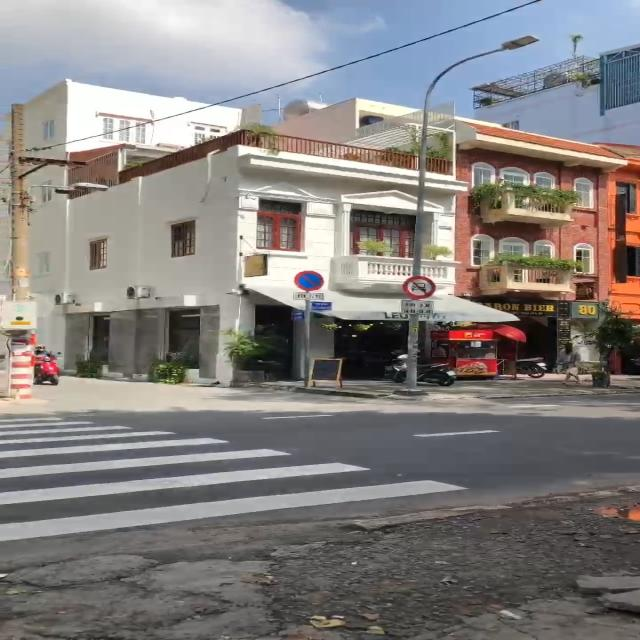Bien bao cam do xe: (292, 268, 326, 293)
Bien bao cam xe oto: (400, 273, 437, 299)
